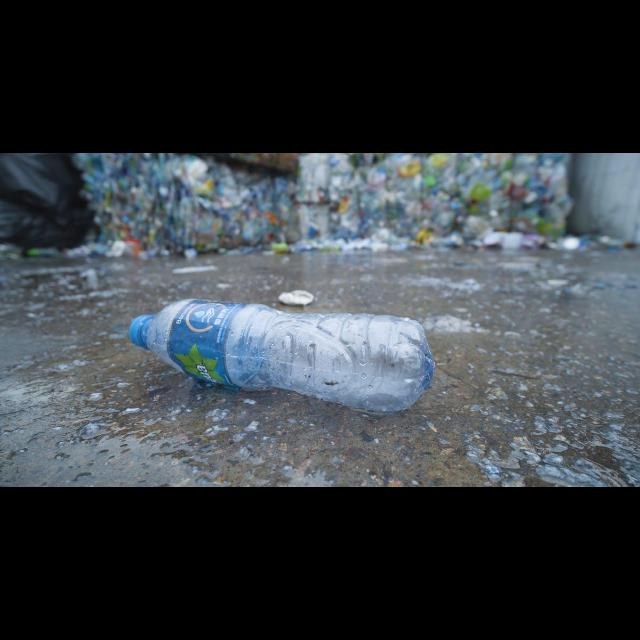garrafa plástica: (148, 298, 434, 412)
tampa plástica: (129, 314, 155, 348)
